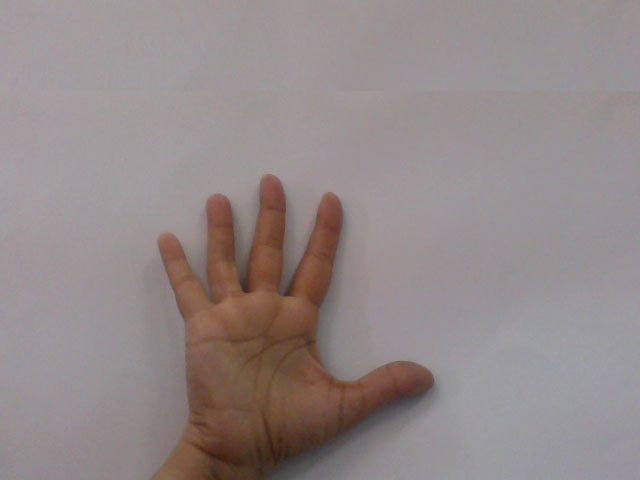hand: (152, 168, 446, 458)
